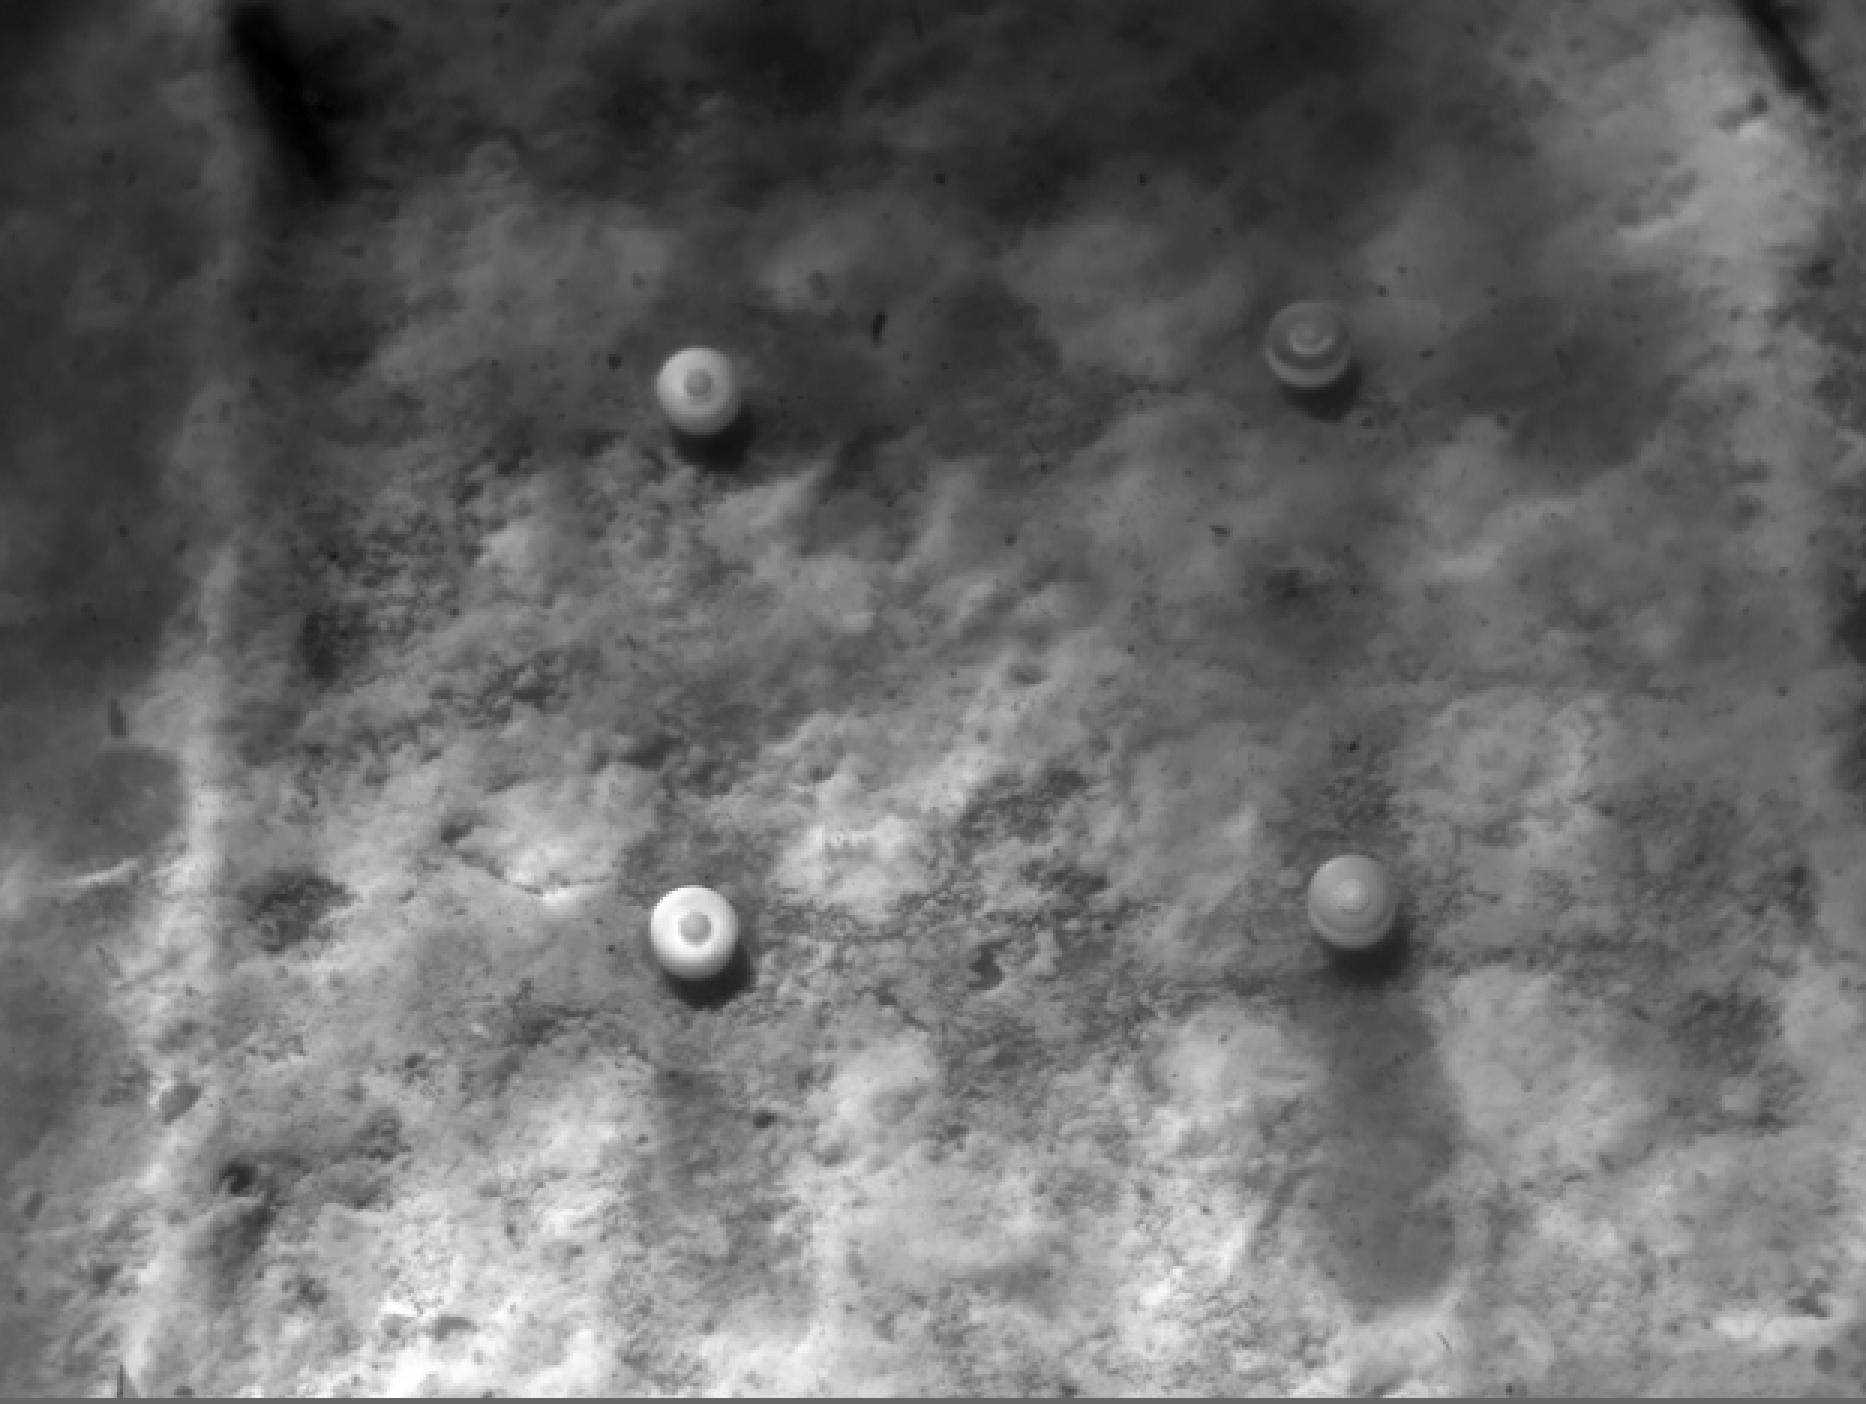mines-gjV8: (665, 342, 763, 437), (1308, 866, 1400, 954), (1266, 308, 1356, 395), (662, 882, 746, 962)
